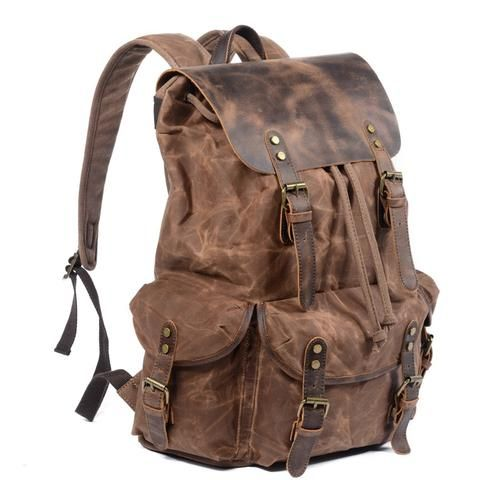cuero: (76, 24, 440, 475)
